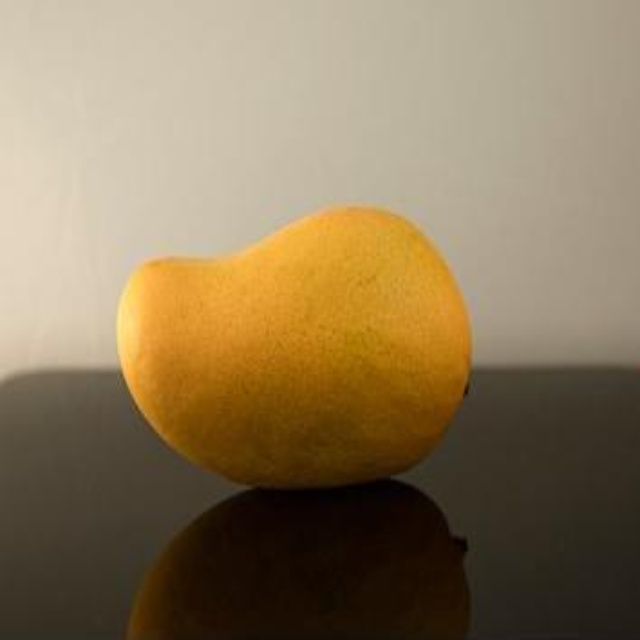mango: (121, 206, 467, 492)
